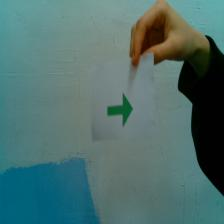right: (107, 93, 133, 128)
